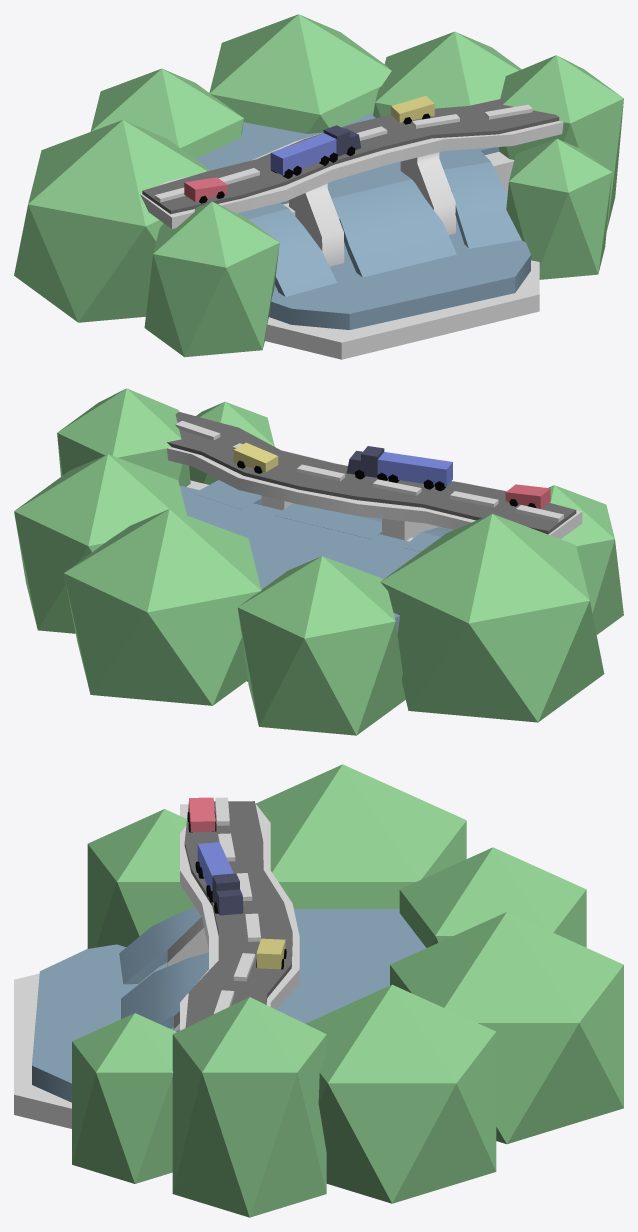
The model's file is hydro.fbx.
The picture shows the model from 3 angles, top to bottom: view 1: azimuth 30°, elevation 25°; view 2: azimuth 150°, elevation 25°; view 3: azimuth 270°, elevation 25°; orthographic projection. The views are drawn at different scales.
Parts seen in each view (by area): view 1: pCylinder21; view 2: pCylinder21; view 3: pCylinder21.
Boxes of the visible parts, bbox=[...] form: pCylinder21: bbox=[14, 14, 623, 359]; pCylinder21: bbox=[14, 388, 623, 735]; pCylinder21: bbox=[14, 764, 623, 1217].
Bounding box in the file's own units: 6.54 × 1.86 × 5.29.
